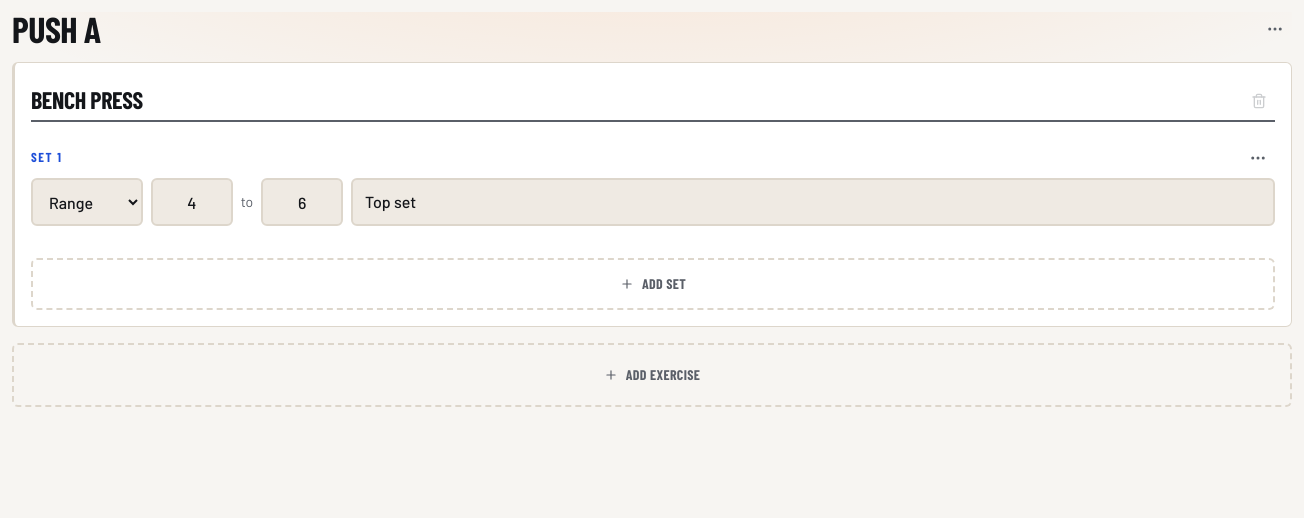
Test: WorkoutEditor › only offers to save once something has changed
Expected: the button "Save changes" is not shown
Replace the text in the dropdown named "Exercise 1 name" with "Incline press". click: [653, 100]
box: [31,79,1275,122]
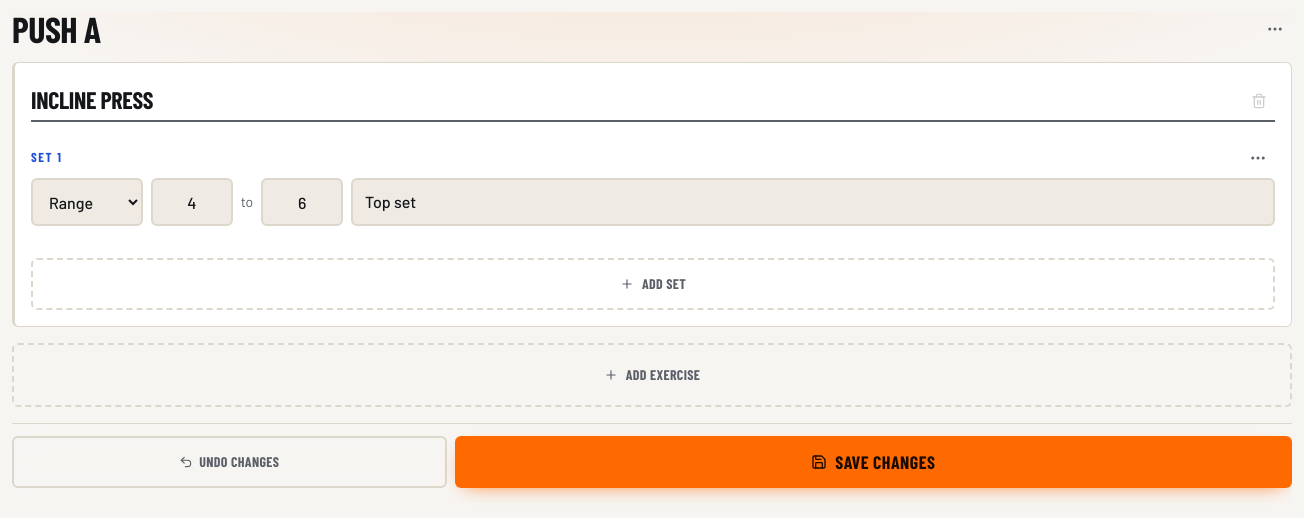
Expected: the button "Save changes" is enabled, [455,436,1292,488]
Note: Back to what the server holds: nothing left to save.
Replace the text in the dropdown named "Exercise 1 name" with "Bench press". click: [653, 100]
box: [31,79,1275,122]
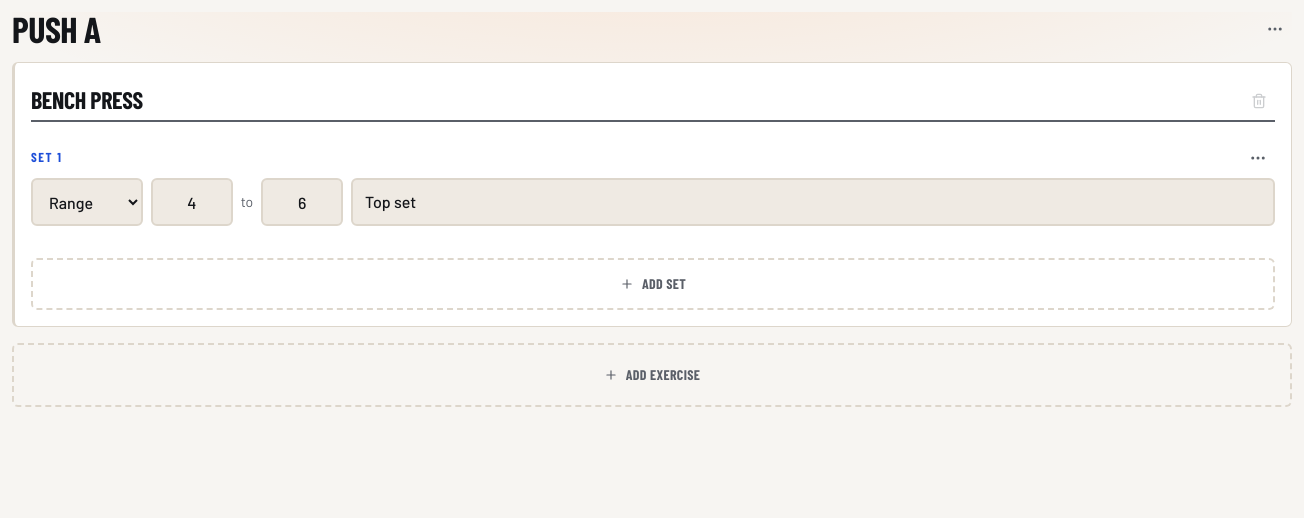
Expected: the button "Save changes" is gone
